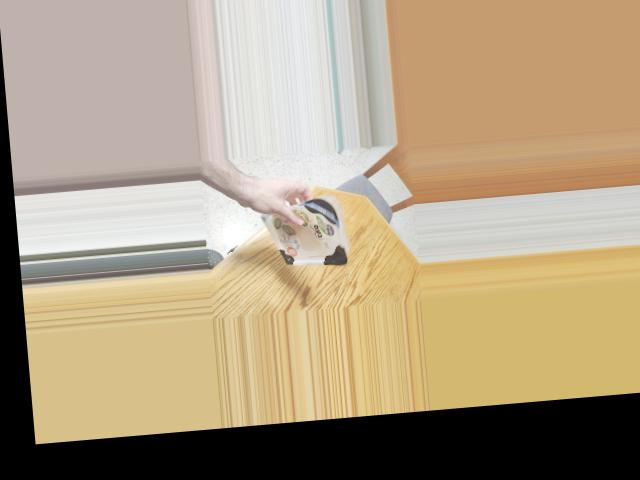cheese: (275, 191, 354, 266)
